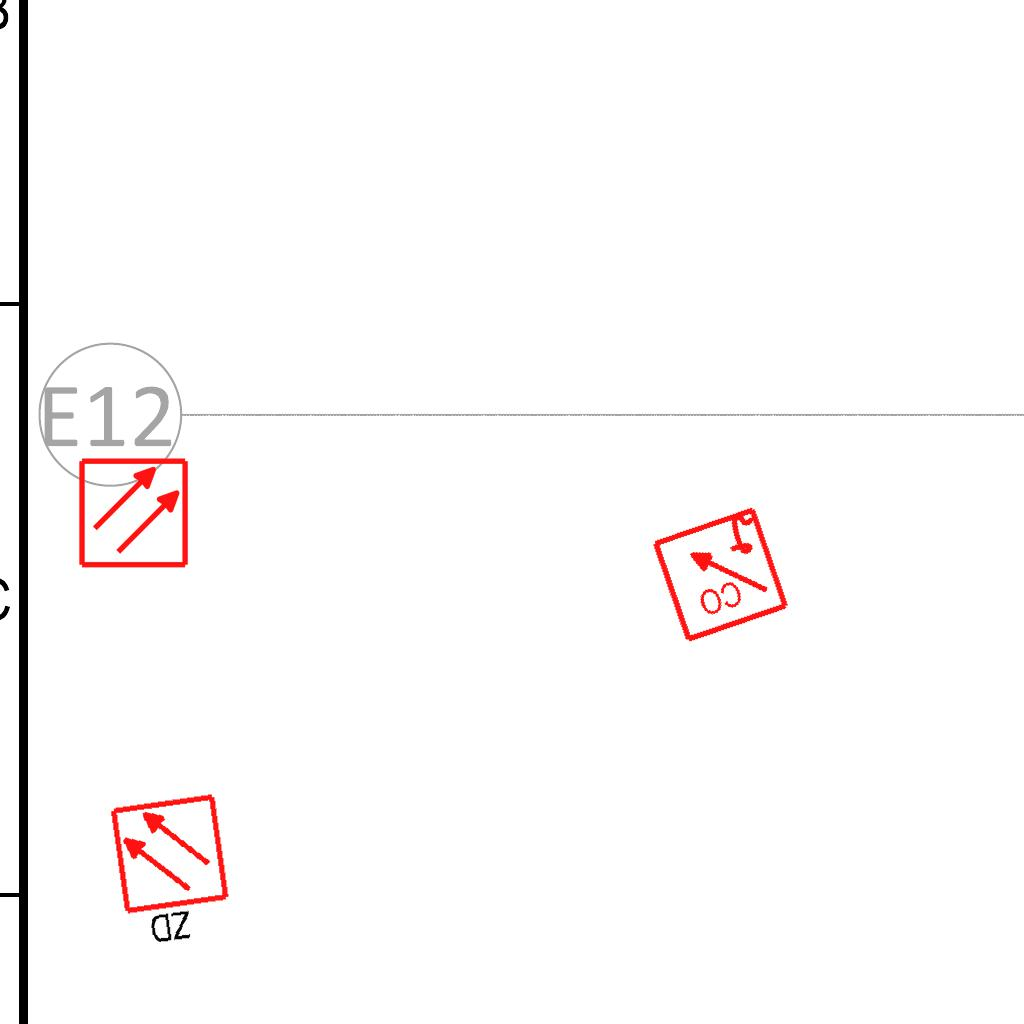RMO_Rauchmelder_optischer: (77, 456, 190, 569)
ROA_Rauchmelder_optisch_mit_Signalgeber_(Sockelsirene): (647, 501, 792, 646)
ZD_Melder_in_Zwischendecke_mit_Revisionsoeffnung_mind_40_x_40_cm: (107, 790, 241, 955)
